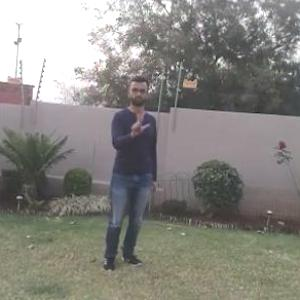land_hand: (127, 108, 152, 138)
